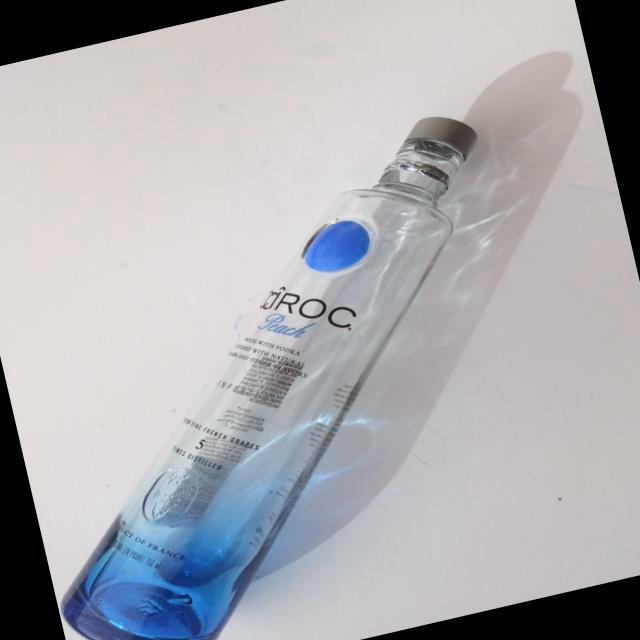glass: (0, 95, 581, 640)
